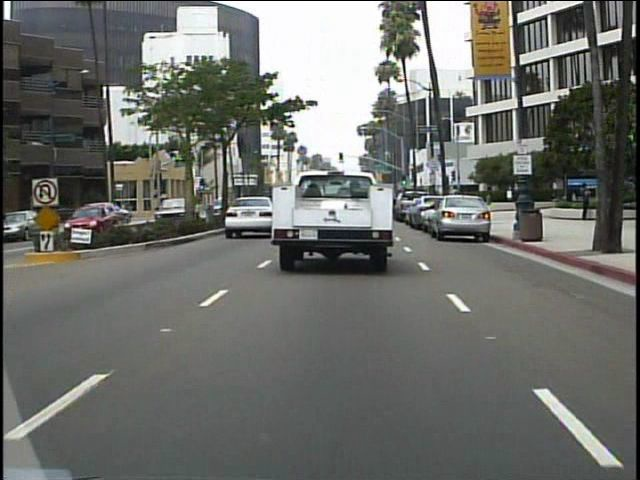person: (581, 177, 593, 225)
